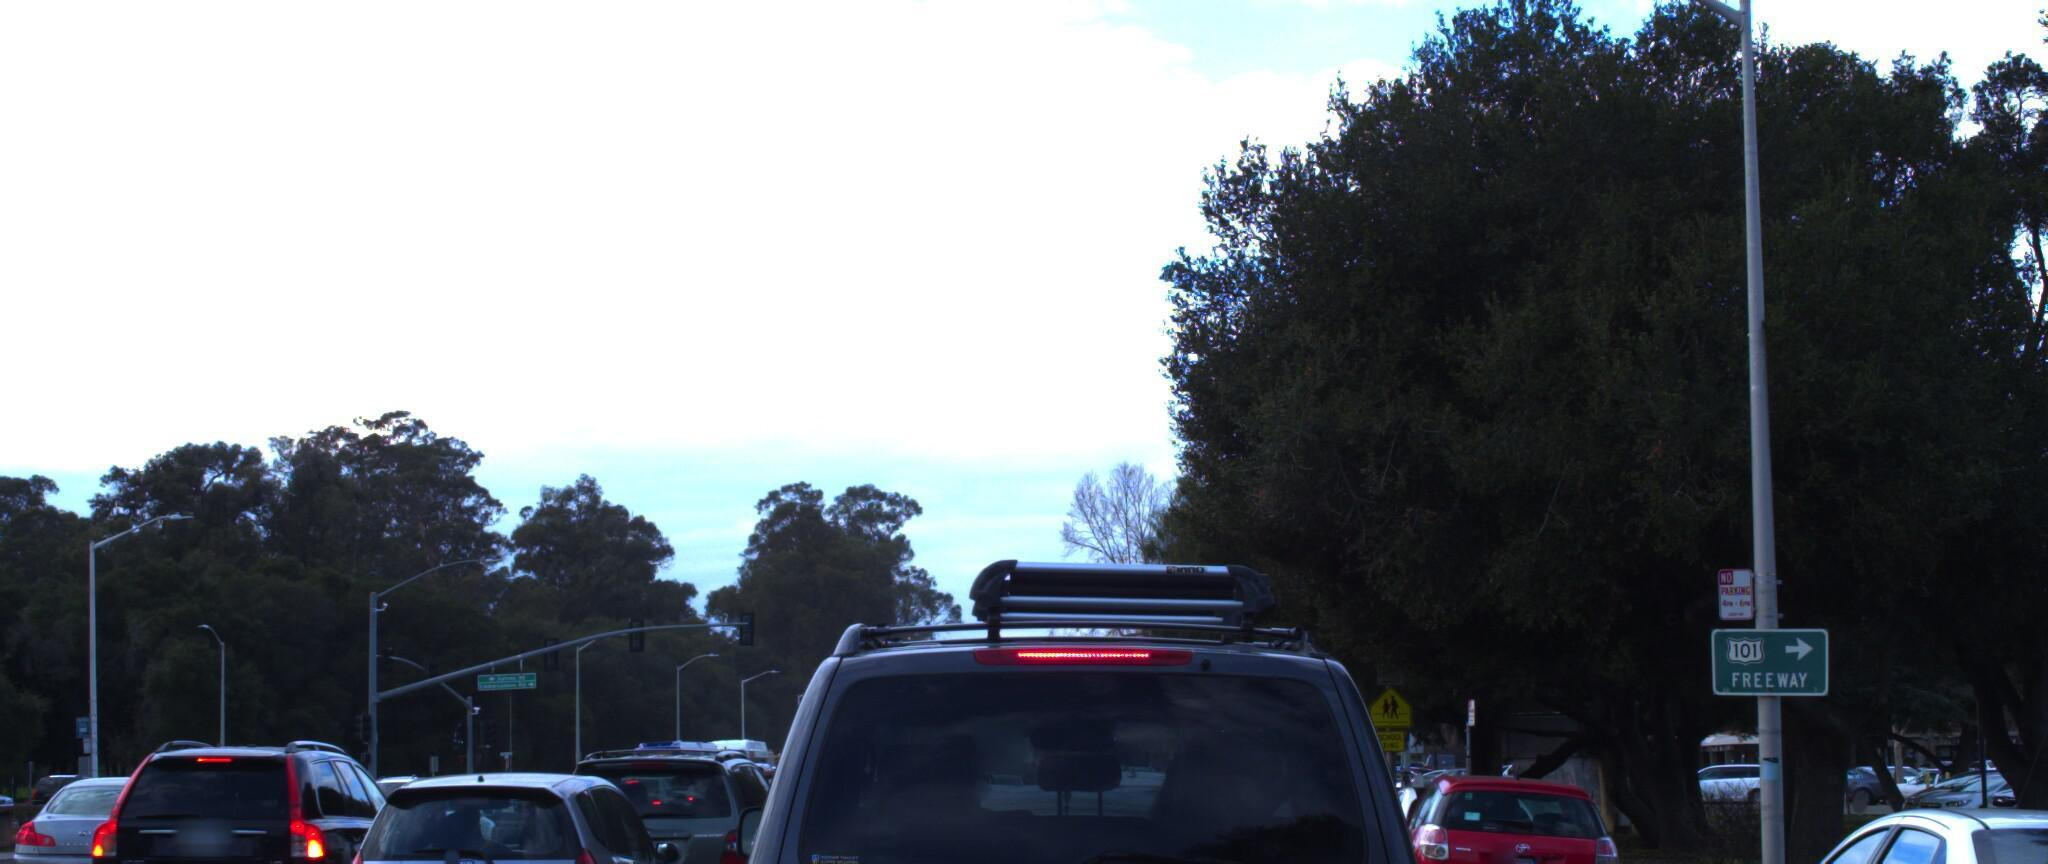car: (641, 516, 1499, 864), (84, 723, 440, 864), (327, 765, 707, 864), (525, 735, 797, 864), (1644, 780, 2048, 864), (1354, 754, 1642, 864), (7, 764, 290, 864), (1920, 685, 2048, 864), (0, 770, 33, 864)
